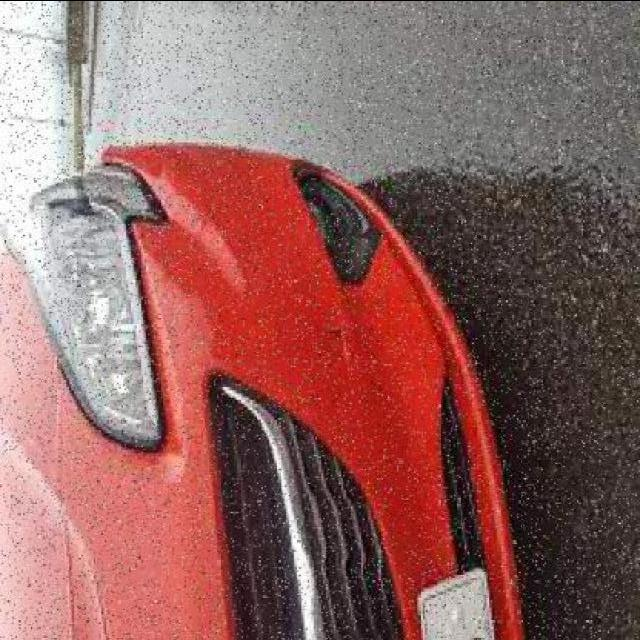front-bumper-dent: (131, 116, 514, 640)
